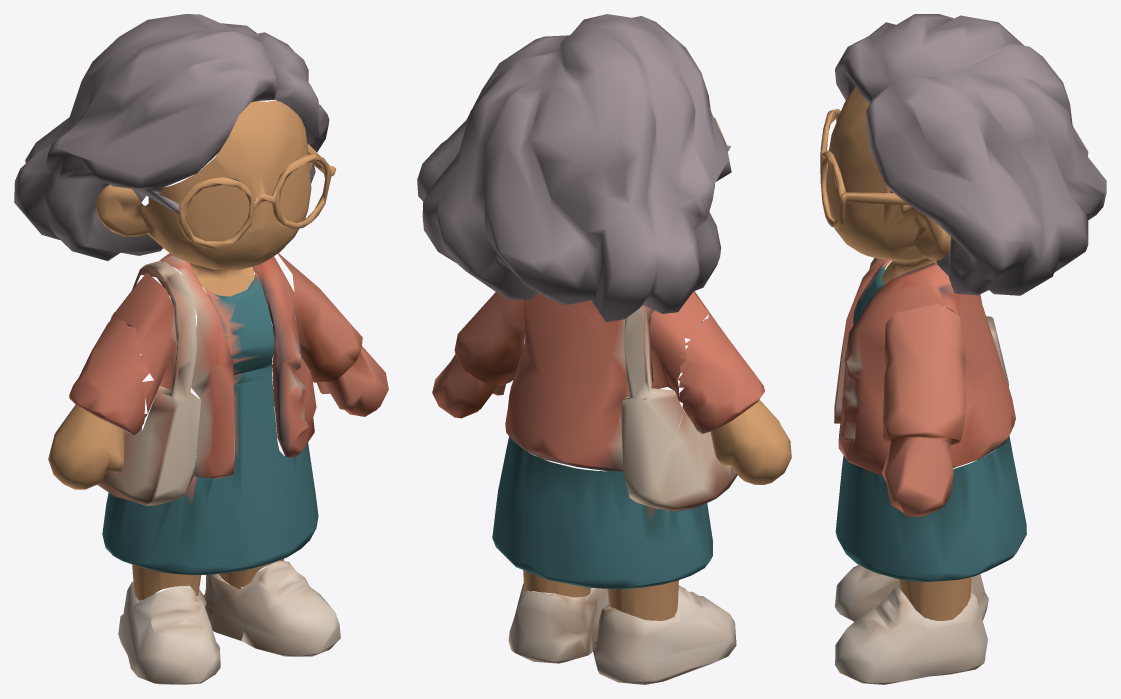
The picture shows the model from 3 angles, left to right: view 1: azimuth 30°, elevation 25°; view 2: azimuth 150°, elevation 25°; view 3: azimuth 270°, elevation 25°; orthographic projection. The views are drawn at different scales.
Parts seen in each view (by area): view 1: hair, top, bottom, head, shoe_l, shoe_r, sleeve_l, sleeve_r, hand_r, leg_r; view 2: hair, top, bottom, shoe_r, sleeve_l, sleeve_r, shoe_l, hand_r, leg_r, leg_l; view 3: hair, bottom, top, sleeve_l, head, shoe_l, shoe_r, leg_l.
Part boxes in pixels (x1=…): hair: x1=14, y1=14, x2=329, y2=260; top: x1=97, y1=253, x2=316, y2=505; bottom: x1=102, y1=272, x2=318, y2=575; head: x1=96, y1=100, x2=335, y2=296; shoe_l: x1=203, y1=561, x2=340, y2=656; shoe_r: x1=118, y1=581, x2=220, y2=684; sleeve_l: x1=278, y1=253, x2=388, y2=416; sleeve_r: x1=69, y1=312, x2=153, y2=436; hand_r: x1=48, y1=405, x2=125, y2=489; leg_r: x1=132, y1=564, x2=201, y2=600; hair: x1=417, y1=14, x2=731, y2=322; top: x1=505, y1=291, x2=737, y2=511; bottom: x1=492, y1=436, x2=712, y2=589; shoe_r: x1=592, y1=585, x2=736, y2=684; sleeve_l: x1=432, y1=292, x2=525, y2=418; sleeve_r: x1=666, y1=314, x2=764, y2=450; shoe_l: x1=508, y1=583, x2=612, y2=663; hand_r: x1=710, y1=399, x2=791, y2=484; leg_r: x1=607, y1=580, x2=678, y2=620; leg_l: x1=523, y1=570, x2=590, y2=597; hair: x1=835, y1=14, x2=1106, y2=295; bottom: x1=835, y1=259, x2=1026, y2=581; top: x1=834, y1=258, x2=1015, y2=475; sleeve_l: x1=882, y1=304, x2=965, y2=516; head: x1=820, y1=87, x2=950, y2=284; shoe_l: x1=835, y1=588, x2=987, y2=684; shoe_r: x1=834, y1=565, x2=988, y2=621; leg_l: x1=898, y1=577, x2=971, y2=620.
Bounding box in the file's own units: 0.5866 × 1.03 × 0.4352.
